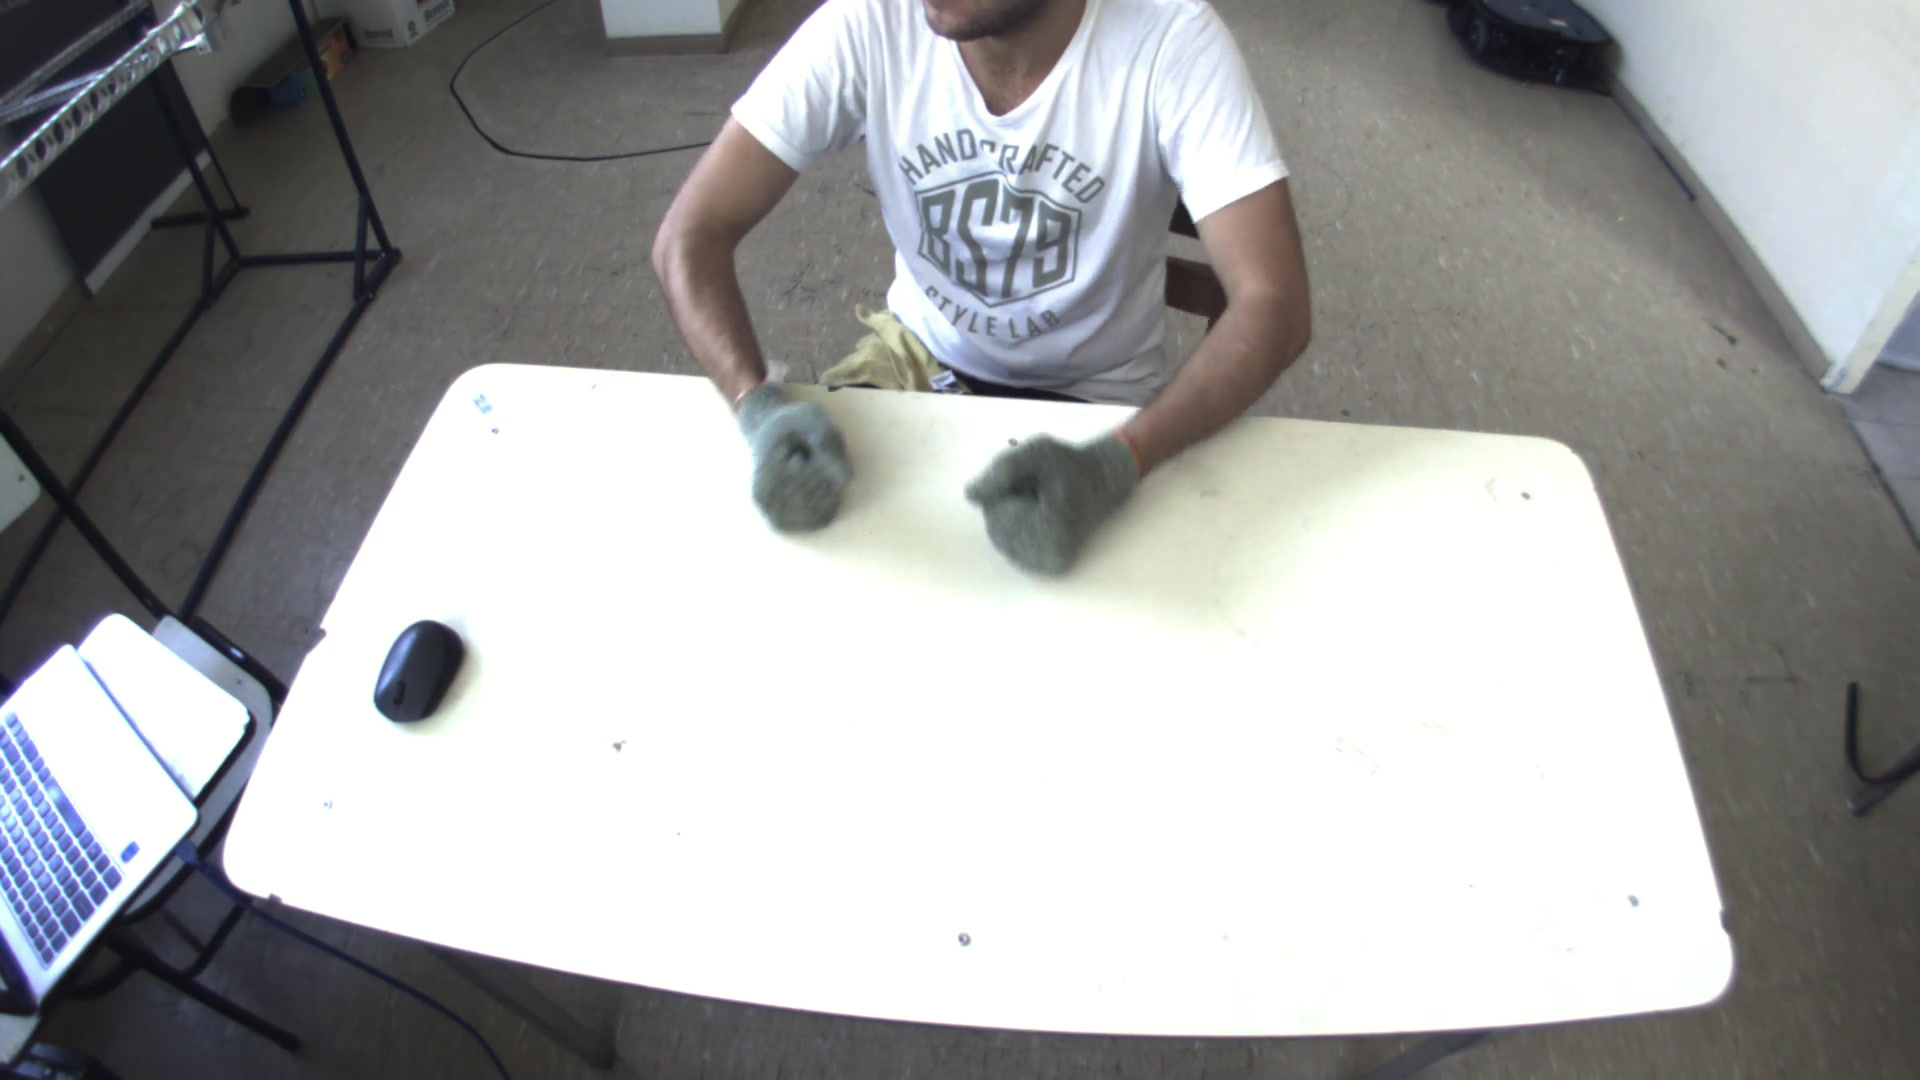hand: (959, 407, 1145, 576), (727, 367, 865, 531)
